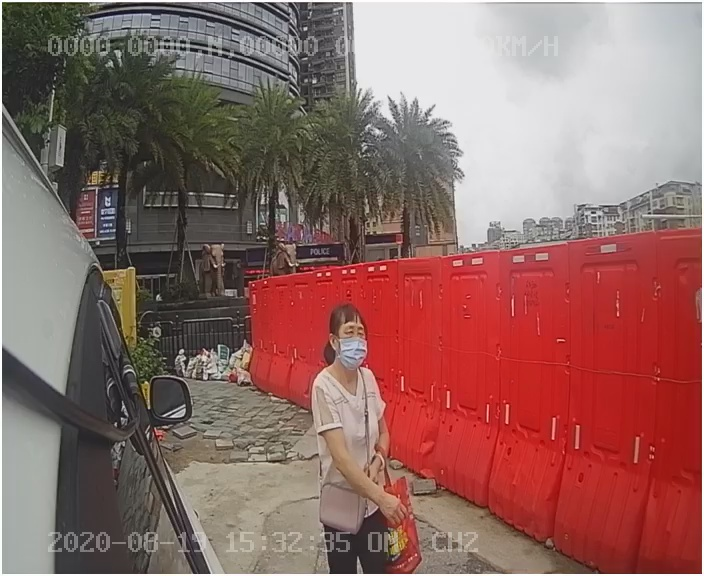person: (297, 298, 422, 524)
